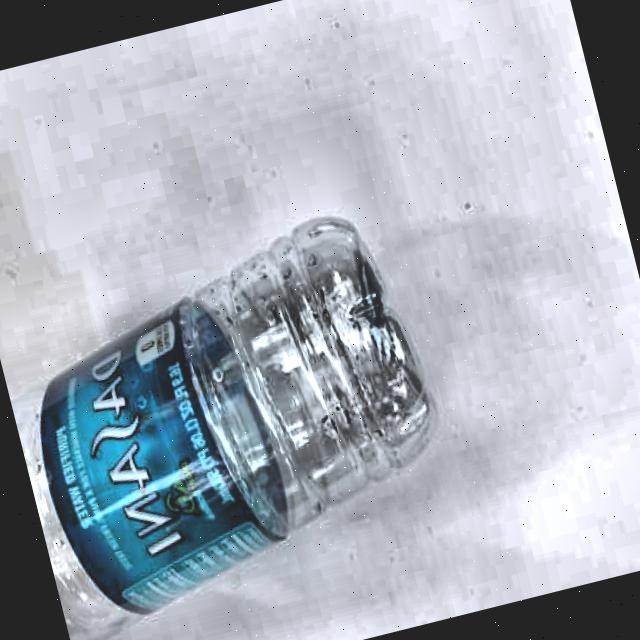plastic: (0, 194, 473, 640)
